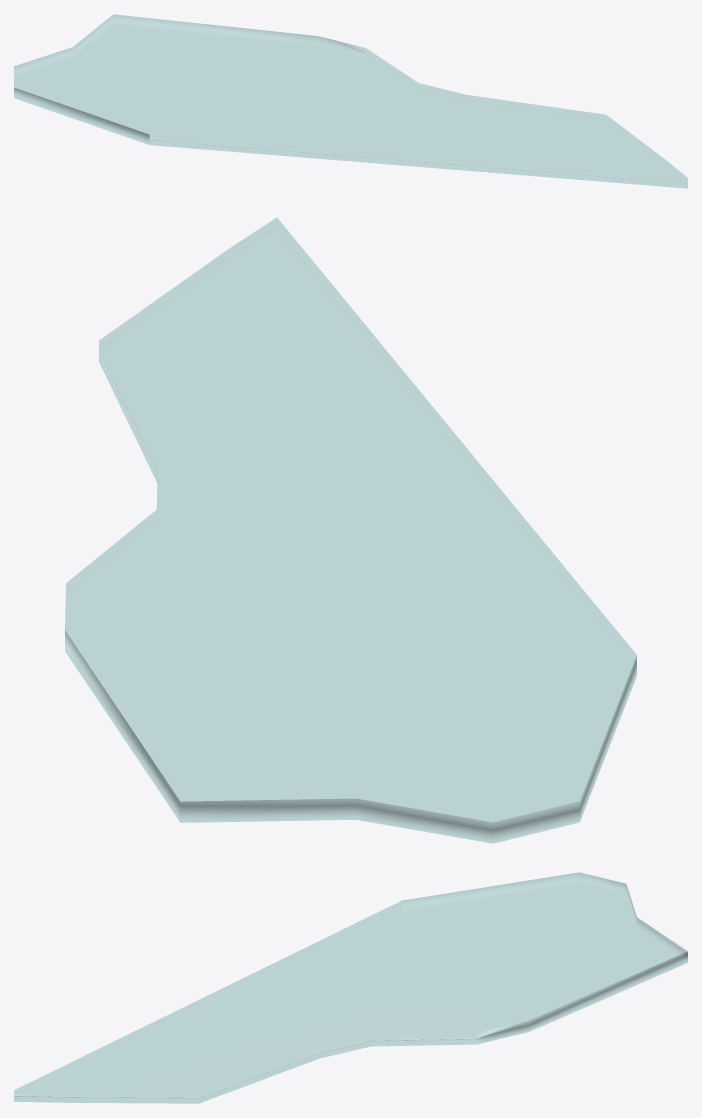
The model's file is VidrioRoto2.fbx.
3 renders of one model, top to bottom at view 1: azimuth 30°, elevation 25°; view 2: azimuth 150°, elevation 25°; view 3: azimuth 270°, elevation 25°, orthographic. The views are drawn at different scales.
Parts seen in each view (by area): view 1: Cube.035; view 2: Cube.035; view 3: Cube.035.
Boxes of the visible parts, x1,y1,x2,y2 form: Cube.035: (14, 14, 687, 188); Cube.035: (65, 217, 636, 843); Cube.035: (14, 872, 687, 1103).
Size of the model in its own units: 224 by 5.48 by 290.
